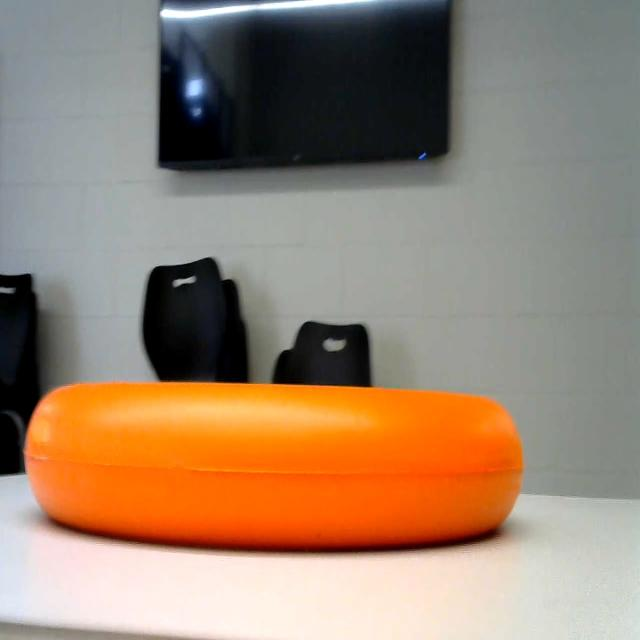note: (33, 363, 541, 556)
